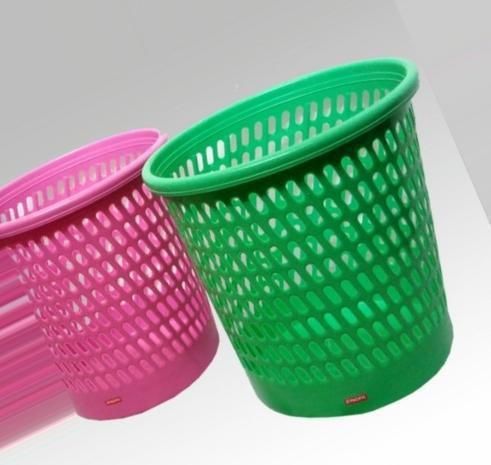Bote de Basura: (142, 56, 461, 419), (0, 119, 209, 432)
